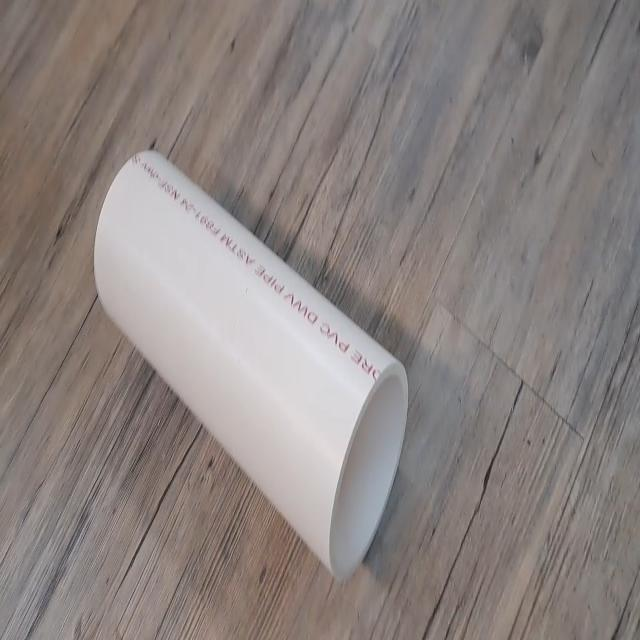CORAL: (83, 131, 415, 587)
